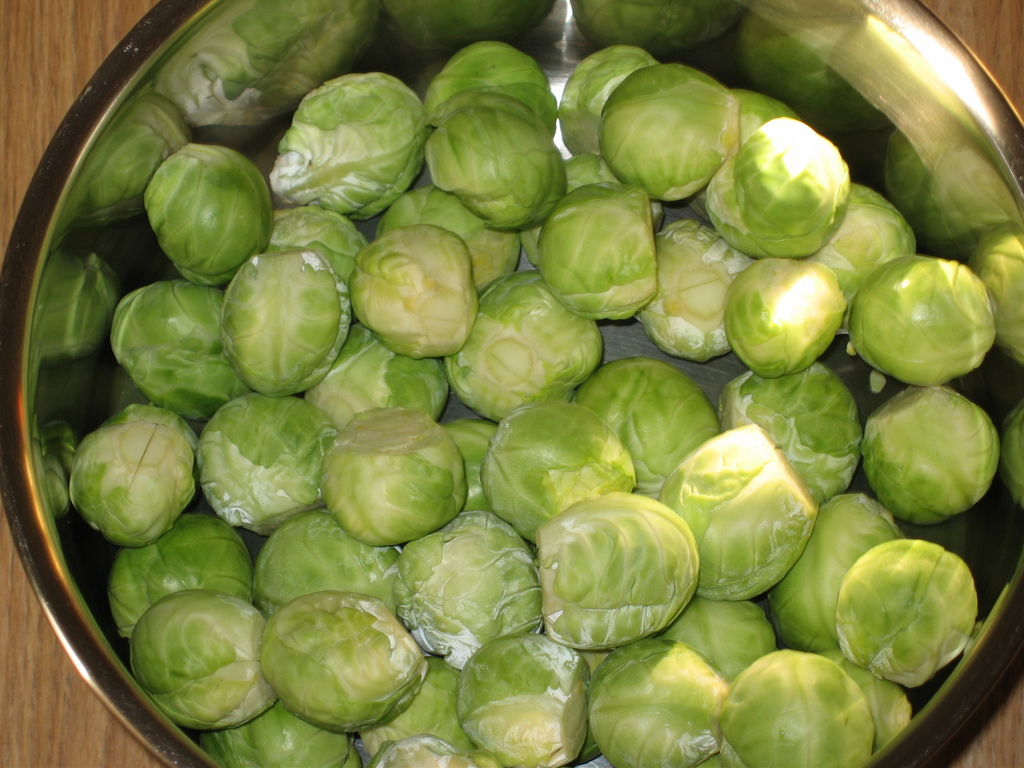Cabbage: (68, 37, 1023, 767)
